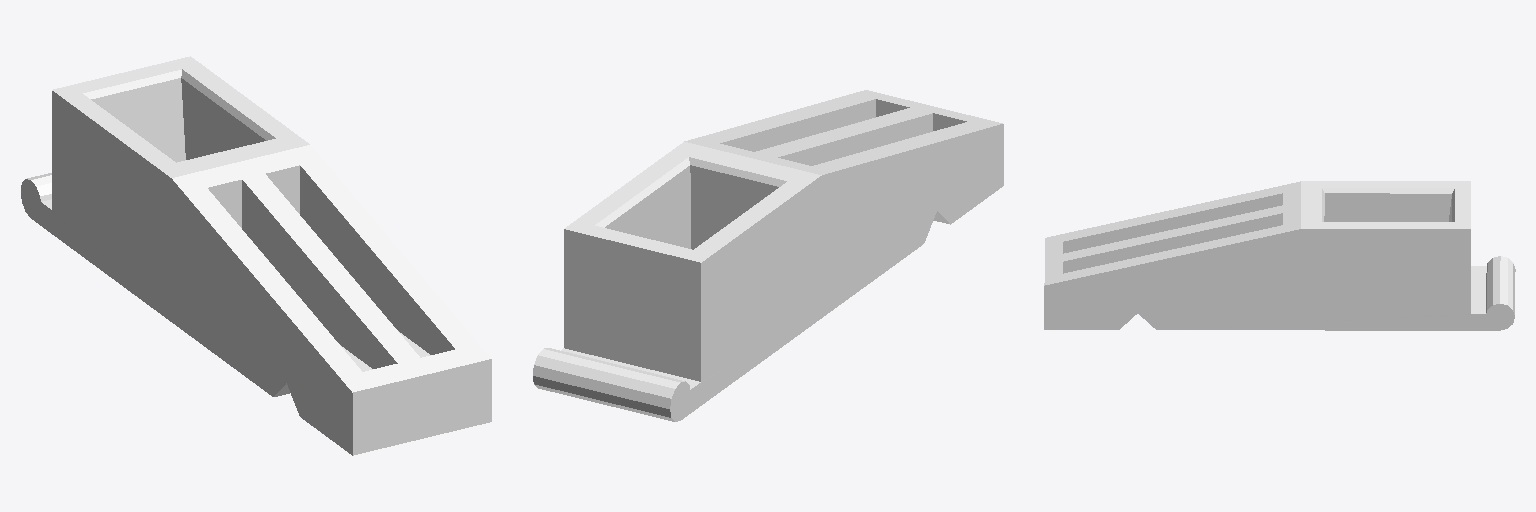
robot.urdf — ClampJaw:
<?xml version="1.0" ?>
<robot name="ClampJaw">
  <link name="ClampJaw">
    <contact>
      <lateral_friction value="1.0"/>
      <rolling_friction value="1.0"/>
      <inertia_scaling value="3.0"/>
      <contact_cdm value="0.0"/>
      <contact_erp value="1.0"/>
    </contact>
    <inertial>
      <origin rpy="0 0 0" xyz="0 0 0"/>
      <mass value="1.0"/>
      <inertia ixx="0" ixy="0" ixz="0" iyy="0" iyz="0" izz="0"/>
    </inertial>
    <visual>
      <origin rpy="0 0 0" xyz="0 0 0"/>
      <geometry>
        <mesh filename="ClampJaw_vis.obj" scale="1.0 1.0 1.0"/>
      </geometry>
      <material name="blockmat">
        <color rgba="1.0 1.0 1.0 1.0"/>
      </material>
    </visual>
    <collision>
      <origin rpy="0 0 0" xyz="0 0 0"/>
      <geometry>
        <mesh filename="ClampJaw_col.obj" scale="1.0 1.0 1.0"/>
      </geometry>
    </collision>
  </link>
</robot>

--- Facts derived from the render (not from the file) ---
3 views of the same robot in one strip: view 1: azimuth 30°, elevation 25°; view 2: azimuth 150°, elevation 25°; view 3: azimuth 270°, elevation 25° (orthographic).
Robot: ClampJaw — 1 links, 0 joints (none); root link ClampJaw; default pose: all joints at 0.
Visible links, largest first — view 1: ClampJaw; view 2: ClampJaw; view 3: ClampJaw.
Link boxes in pixels (bbox=[...]): ClampJaw: bbox=[21, 56, 491, 455]; ClampJaw: bbox=[533, 90, 1003, 421]; ClampJaw: bbox=[1044, 181, 1515, 330].
Bounding box of the posed robot: 0.0123 × 0.0505 × 0.012 m (x, y, z).
1 mesh visuals loaded from 1 distinct referenced files (1 OBJ).